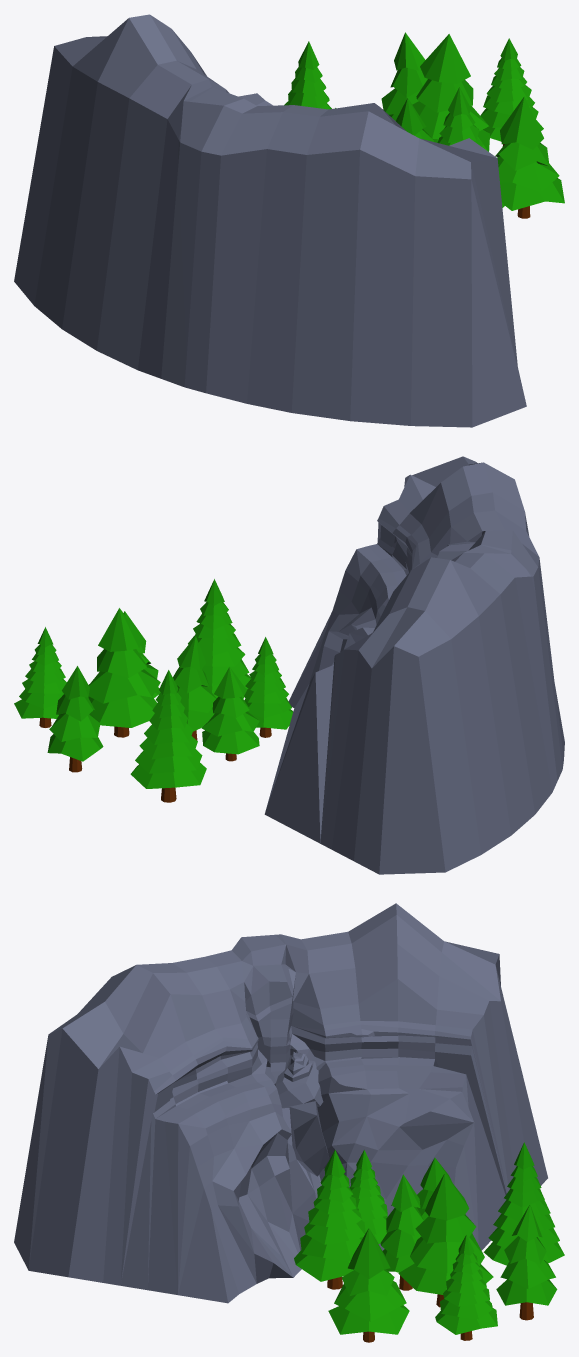
3 views of the same model, one above another, from view 1: azimuth 30°, elevation 25°; view 2: azimuth 150°, elevation 25°; view 3: azimuth 270°, elevation 25° (orthographic). The views are drawn at different scales.
Parts seen in each view (by area): view 1: Cube.001, tree_07_Baked, tree_06_Baked, tree_08_Baked.001, tree_05_Baked.001, tree_09_Baked, tree_08_Baked, tree_05_Baked; view 2: Cube.001, tree_06_Baked, tree_09_Baked, tree_05_Baked.001, tree_08_Baked, tree_06_Baked.001, tree_08_Baked.001, tree_08_Baked.002, tree_05_Baked; view 3: Cube.001, tree_08_Baked, tree_07_Baked, tree_06_Baked, tree_05_Baked.001, tree_09_Baked, tree_08_Baked.001, tree_05_Baked, tree_08_Baked.002, tree_06_Baked.001.
Boxes of the visible parts, x1,y1,x2,y2 form: Cube.001: (14, 14, 526, 427); tree_07_Baked: (495, 96, 564, 218); tree_06_Baked: (412, 34, 489, 151); tree_08_Baked.001: (480, 38, 543, 146); tree_05_Baked.001: (381, 32, 427, 120); tree_09_Baked: (284, 41, 331, 109); tree_08_Baked: (437, 87, 504, 207); tree_05_Baked: (396, 98, 434, 141); Cube.001: (264, 456, 564, 874); tree_06_Baked: (88, 608, 160, 737); tree_09_Baked: (130, 670, 206, 802); tree_05_Baked.001: (47, 666, 103, 772); tree_08_Baked: (188, 579, 251, 698); tree_06_Baked.001: (201, 667, 259, 761); tree_08_Baked.001: (14, 627, 66, 727); tree_08_Baked.002: (244, 637, 293, 737); tree_05_Baked: (173, 636, 216, 740); Cube.001: (14, 903, 547, 1303); tree_08_Baked: (294, 1150, 365, 1289); tree_07_Baked: (328, 1228, 409, 1342); tree_06_Baked: (398, 1173, 493, 1307); tree_05_Baked.001: (496, 1204, 557, 1320); tree_09_Baked: (483, 1142, 564, 1265); tree_08_Baked.001: (435, 1234, 497, 1340); tree_05_Baked: (380, 1174, 423, 1290); tree_08_Baked.002: (349, 1150, 387, 1243); tree_06_Baked.001: (417, 1157, 452, 1220).
Bounding box in the file's own units: 8164 × 4460 × 8084.
